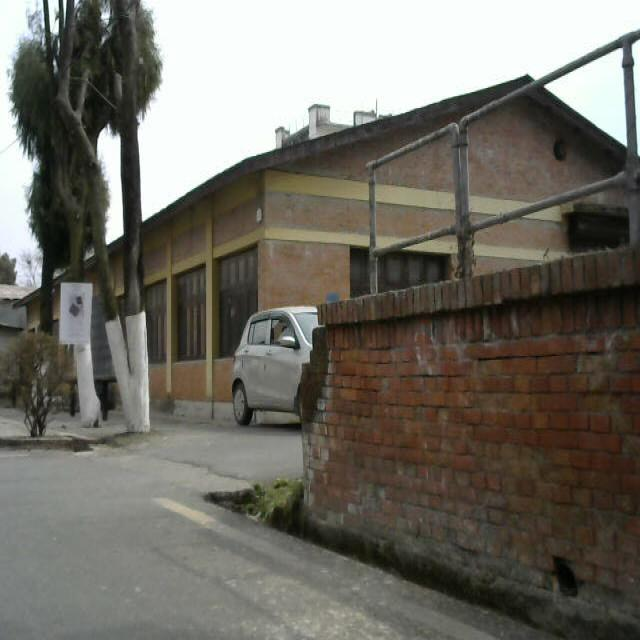Buildings: (120, 123, 629, 294)
Car: (228, 303, 323, 428)
Road: (0, 459, 640, 640)
trees: (12, 3, 227, 445)
